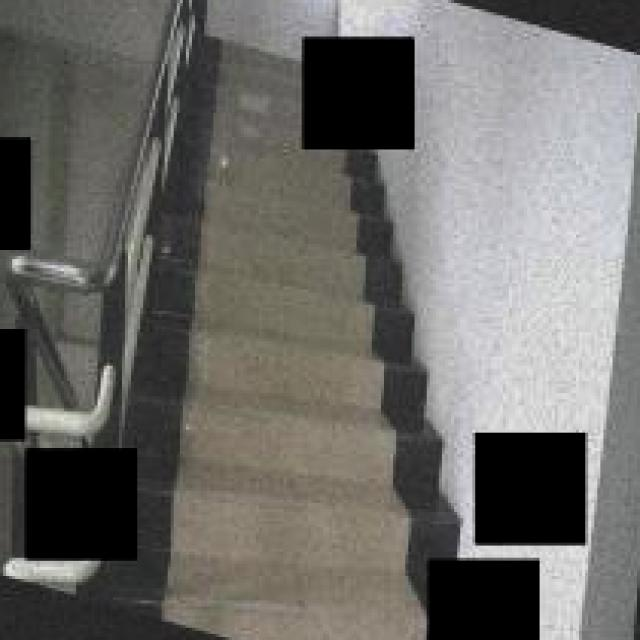upstair: (172, 151, 376, 550)
